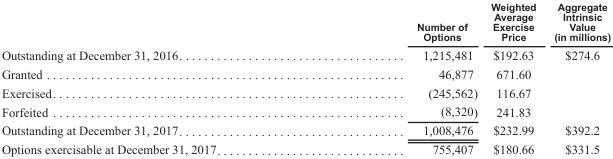table: (0, 0, 610, 156)
table column: (0, 0, 317, 156), (317, 0, 483, 156), (544, 0, 610, 156), (483, 0, 544, 156)
table column header: (0, 0, 610, 44)
table row: (0, 0, 610, 44), (0, 44, 610, 64), (0, 82, 610, 101), (0, 101, 610, 120), (0, 120, 610, 139), (0, 64, 610, 82), (0, 139, 610, 156)
